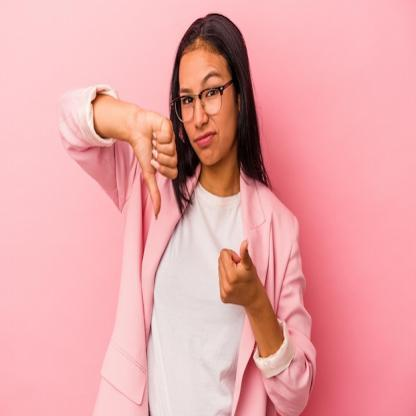thumb_down: (134, 104, 182, 220)
thumb_up: (214, 234, 257, 312)
